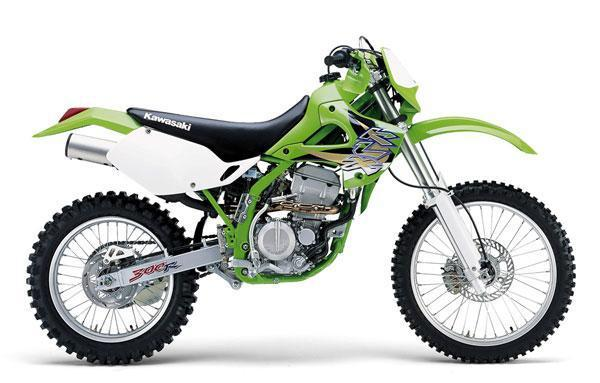Motorcycle: (12, 22, 588, 373)
